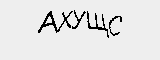А: (38, 10, 59, 32)
С: (108, 13, 125, 37)
У: (69, 10, 88, 29)
Х: (56, 10, 73, 30)
Щ: (88, 12, 109, 39)
